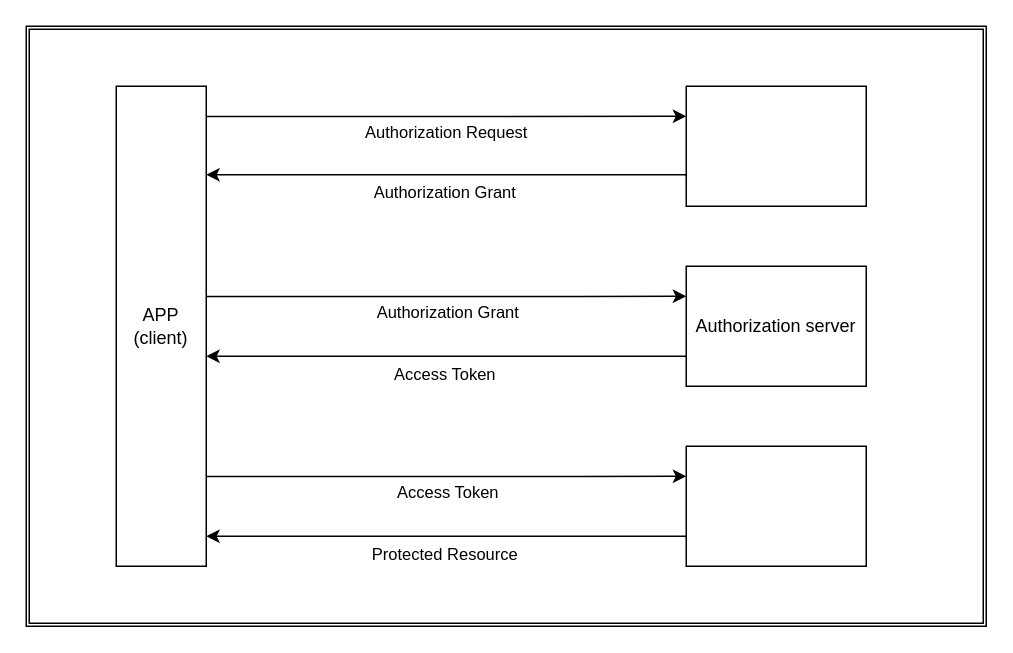
The diagram is 1013 pixels wide and 653 high, and some of its shapes have lost their labels. The shapes that lost their labels are listed below. From the top down, each one's centre as x and y in pixels, then its label:
[775,145]: User (resource owner)
[775,505]: Resource Server
